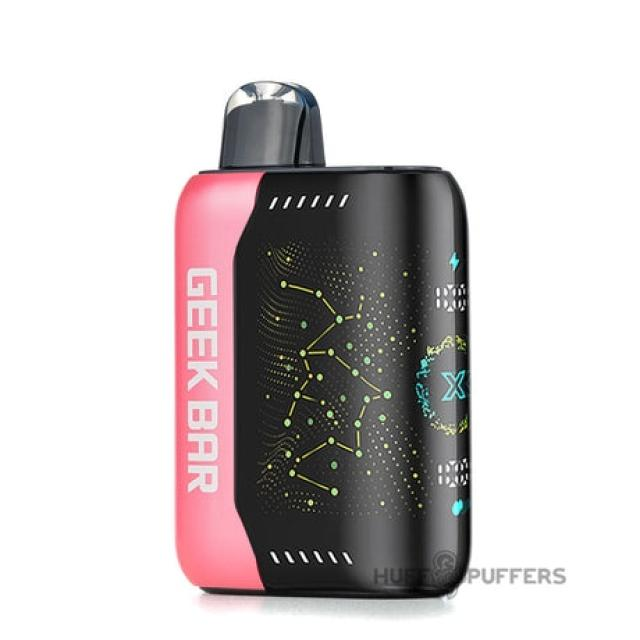Vapes: (173, 79, 472, 600)
